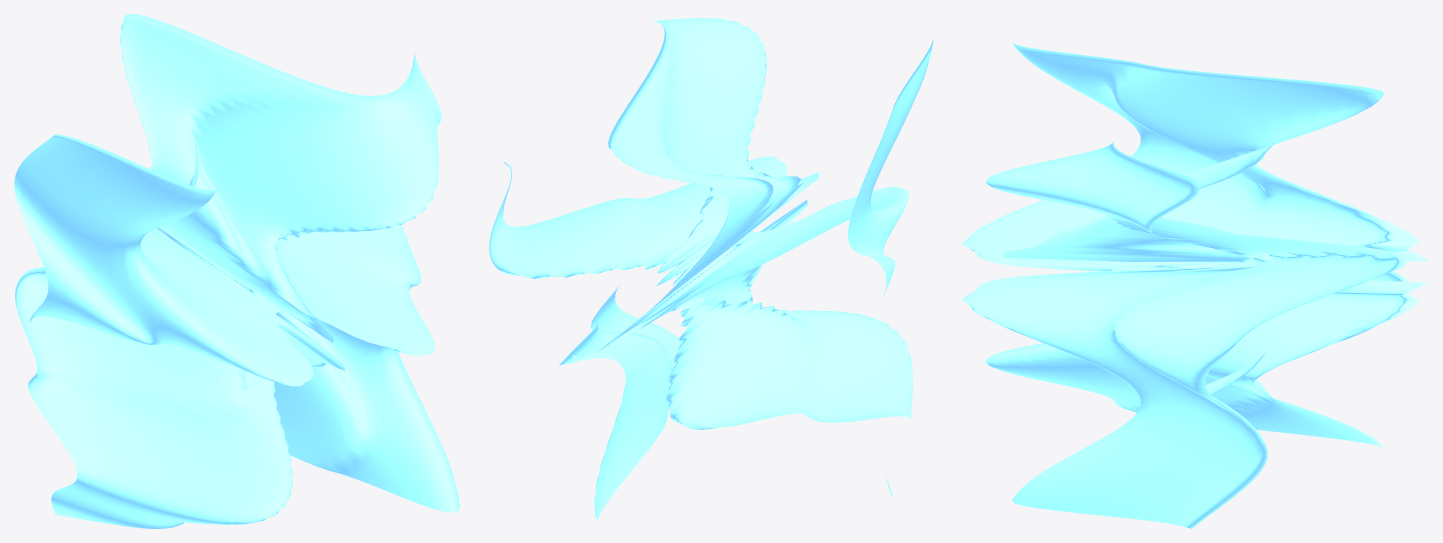
Rendered from uuon-toploical.wave.glb.
3 views of the same model, side by side, from view 1: azimuth 30°, elevation 25°; view 2: azimuth 150°, elevation 25°; view 3: azimuth 270°, elevation 25° (orthographic). The views are drawn at different scales.
Parts seen in each view (by area): view 1: WaveNode; view 2: WaveNode; view 3: WaveNode.
Part boxes in pixels (x1,y1,x2,y2): WaveNode: (14, 14, 459, 528); WaveNode: (489, 18, 933, 522); WaveNode: (962, 42, 1428, 528).
Bounding box in the file's own units: 4 × 4 × 4.82.
